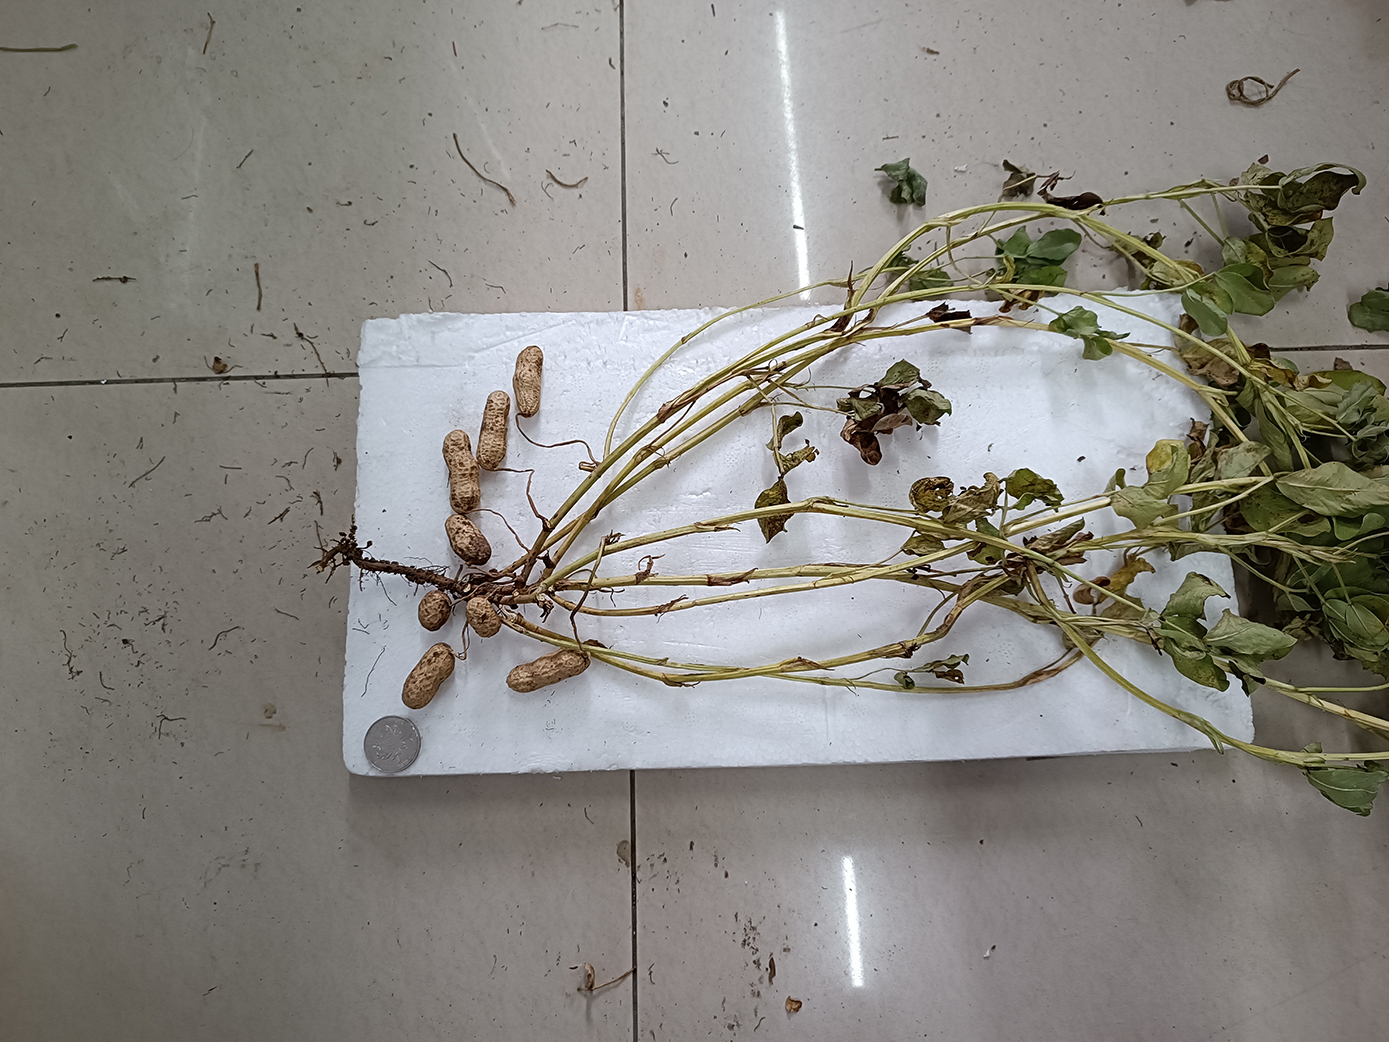h: (507, 648, 592, 693), (402, 641, 455, 710), (442, 430, 481, 514), (477, 390, 510, 470), (445, 513, 493, 565), (513, 344, 544, 418), (465, 598, 502, 638), (416, 592, 453, 630)
